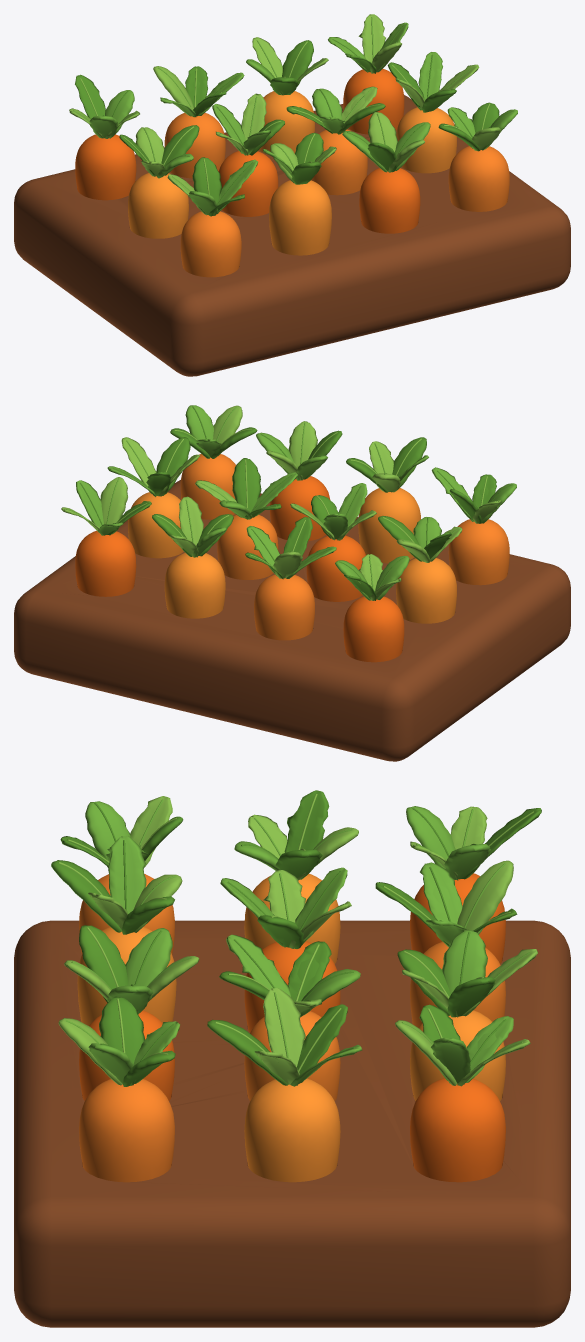
Rendered from carrot_snuffle_game.fbx.
The picture shows the model from 3 angles, top to bottom: view 1: azimuth 30°, elevation 25°; view 2: azimuth 150°, elevation 25°; view 3: azimuth 270°, elevation 25°; orthographic projection. The views are drawn at different scales.
Parts seen in each view (by area): view 1: Soil Cushion • 12 real recessed pockets, Carrot_03 • pull upward, Carrot_02 • pull upward, Carrot_01 • pull upward, Carrot_09 • pull upward, Carrot_05 • pull upward, Carrot_04 • pull upward, Carrot_08 • pull upward, Carrot_06 • pull upward, Carrot_07 • pull upward, Carrot_10 • pull upward, Carrot_11 • pull upward (+1 smaller); view 2: Soil Cushion • 12 real recessed pockets, Carrot_10 • pull upward, Carrot_12 • pull upward, Carrot_11 • pull upward, Carrot_01 • pull upward, Carrot_09 • pull upward, Carrot_05 • pull upward, Carrot_02 • pull upward, Carrot_07 • pull upward, Carrot_08 • pull upward, Carrot_04 • pull upward, Carrot_06 • pull upward (+1 smaller); view 3: Soil Cushion • 12 real recessed pockets, Carrot_08 • pull upward, Carrot_04 • pull upward, Carrot_12 • pull upward, Carrot_02 • pull upward, Carrot_11 • pull upward, Carrot_03 • pull upward, Carrot_10 • pull upward, Carrot_05 • pull upward, Carrot_07 • pull upward, Carrot_06 • pull upward, Carrot_09 • pull upward (+1 smaller).
Boxes of the visible parts, x1,y1,x2,y2 form: Soil Cushion • 12 real recessed pockets: (14,95,570,376); Carrot_03 • pull upward: (342,112,430,233); Carrot_02 • pull upward: (263,132,336,255); Carrot_01 • pull upward: (167,157,258,277); Carrot_09 • pull upward: (69,74,139,200); Carrot_05 • pull upward: (119,125,199,238); Carrot_04 • pull upward: (438,102,517,211); Carrot_08 • pull upward: (387,52,479,173); Carrot_06 • pull upward: (212,93,284,216); Carrot_07 • pull upward: (286,86,385,195); Carrot_10 • pull upward: (153,66,244,178); Carrot_11 • pull upward: (246,37,328,153); Soil Cushion • 12 real recessed pockets: (14,480,570,761); Carrot_10 • pull upward: (245,516,336,640); Carrot_12 • pull upward: (61,477,151,596); Carrot_11 • pull upward: (152,496,233,618); Carrot_01 • pull upward: (431,467,516,585); Carrot_09 • pull upward: (335,554,409,662); Carrot_05 • pull upward: (378,516,462,623); Carrot_02 • pull upward: (346,437,428,563); Carrot_07 • pull upward: (195,458,297,579); Carrot_08 • pull upward: (107,437,199,558); Carrot_04 • pull upward: (170,405,257,519); Carrot_06 • pull upward: (290,483,376,601); Soil Cushion • 12 real recessed pockets: (14,920,570,1327); Carrot_08 • pull upward: (207,988,362,1182); Carrot_04 • pull upward: (58,996,180,1182); Carrot_12 • pull upward: (395,1004,530,1182); Carrot_02 • pull upward: (51,836,182,1025); Carrot_11 • pull upward: (397,929,537,1100); Carrot_03 • pull upward: (64,925,199,1100); Carrot_10 • pull upward: (375,860,517,1027); Carrot_05 • pull upward: (234,790,358,963); Carrot_07 • pull upward: (219,934,360,1100); Carrot_06 • pull upward: (220,867,351,1032); Carrot_09 • pull upward: (406,806,541,963).
Bounding box in the file's own units: 44 × 19.52 × 34.
